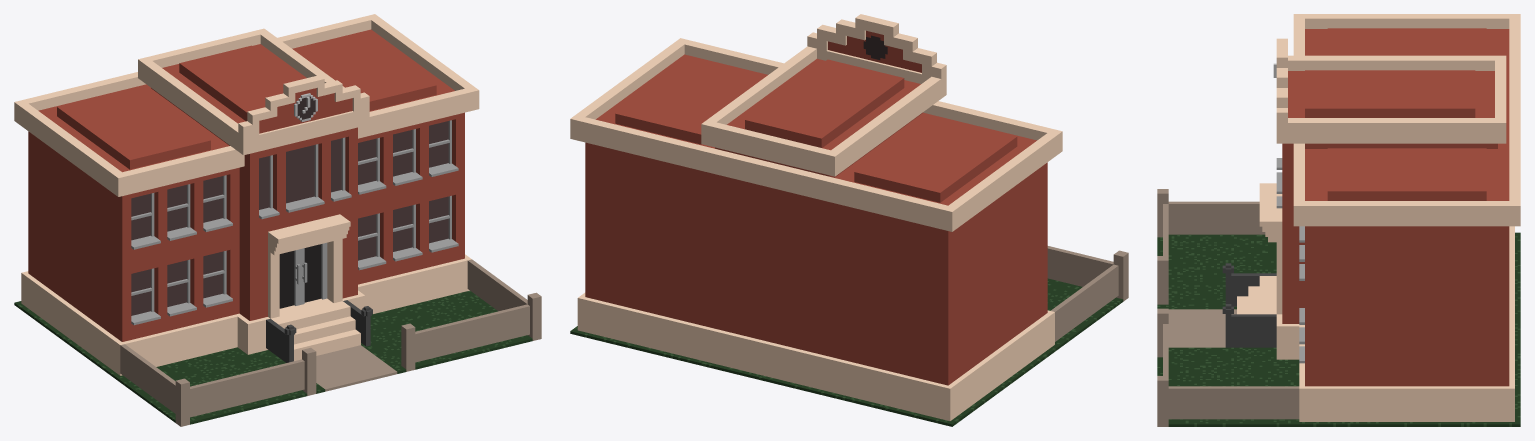
File: school.obj
The picture shows the model from 3 angles, left to right: view 1: azimuth 30°, elevation 25°; view 2: azimuth 150°, elevation 25°; view 3: azimuth 270°, elevation 25°; orthographic projection. The views are drawn at different scales.
Size of the model in its own units: 16 by 11 by 12.8.
1 material, 1 textured.
